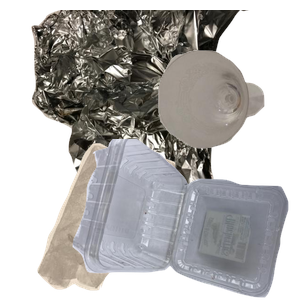glass: (156, 48, 300, 189)
metal: (29, 10, 269, 190)
plastic: (70, 139, 300, 300)
trash: (35, 140, 203, 300)
